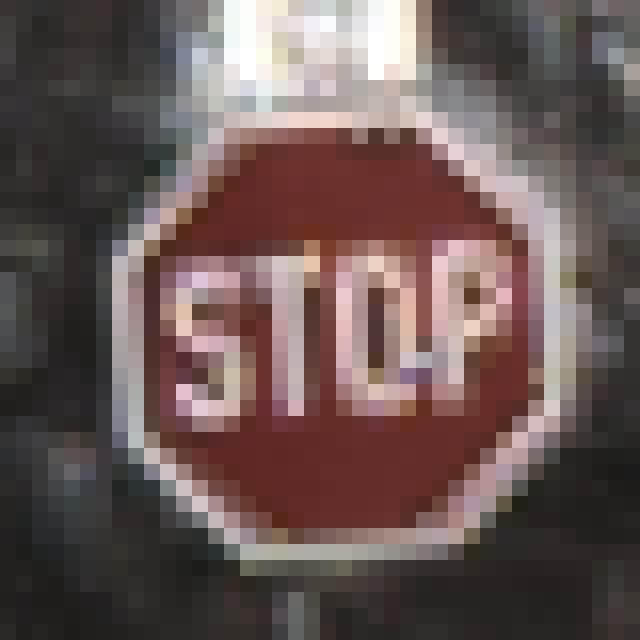STOP: (97, 97, 561, 561)
